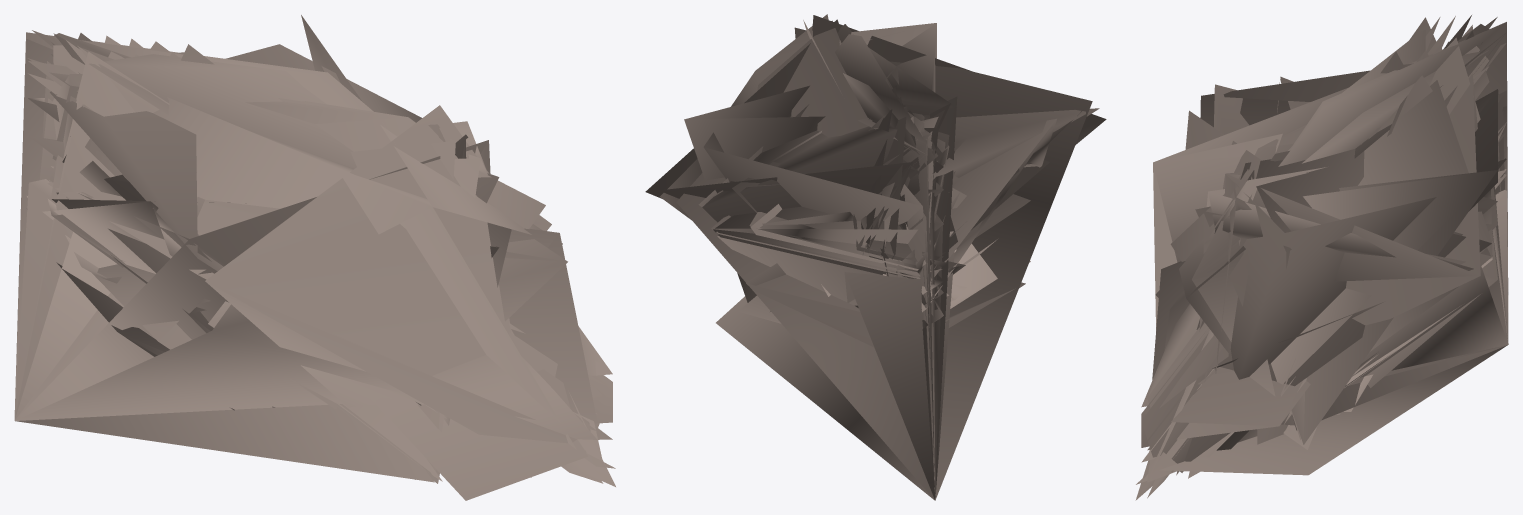
The picture shows the model from 3 angles, left to right: view 1: azimuth 30°, elevation 25°; view 2: azimuth 150°, elevation 25°; view 3: azimuth 270°, elevation 25°; orthographic projection. The views are drawn at different scales.
Parts seen in each view (by area): view 1: MSH_Rockola_MTL_Rockola_0; view 2: MSH_Rockola_MTL_Rockola_0; view 3: MSH_Rockola_MTL_Rockola_0.
Part boxes in pixels (x1,y1,x2,y2): MSH_Rockola_MTL_Rockola_0: (14,15,615,500); MSH_Rockola_MTL_Rockola_0: (645,14,1106,500); MSH_Rockola_MTL_Rockola_0: (1135,15,1508,500).
Bounding box in the file's own units: 0.0238 × 0.0238 × 0.0238.
1 material, 1 textured.
